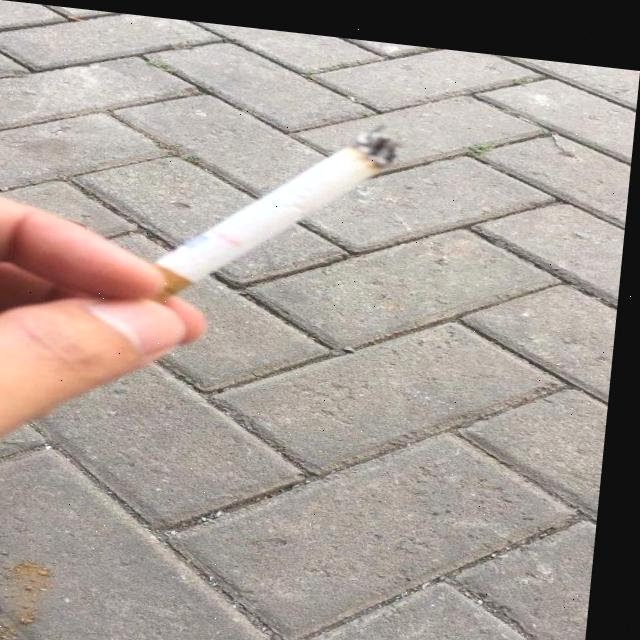cigarette: (149, 98, 406, 317)
